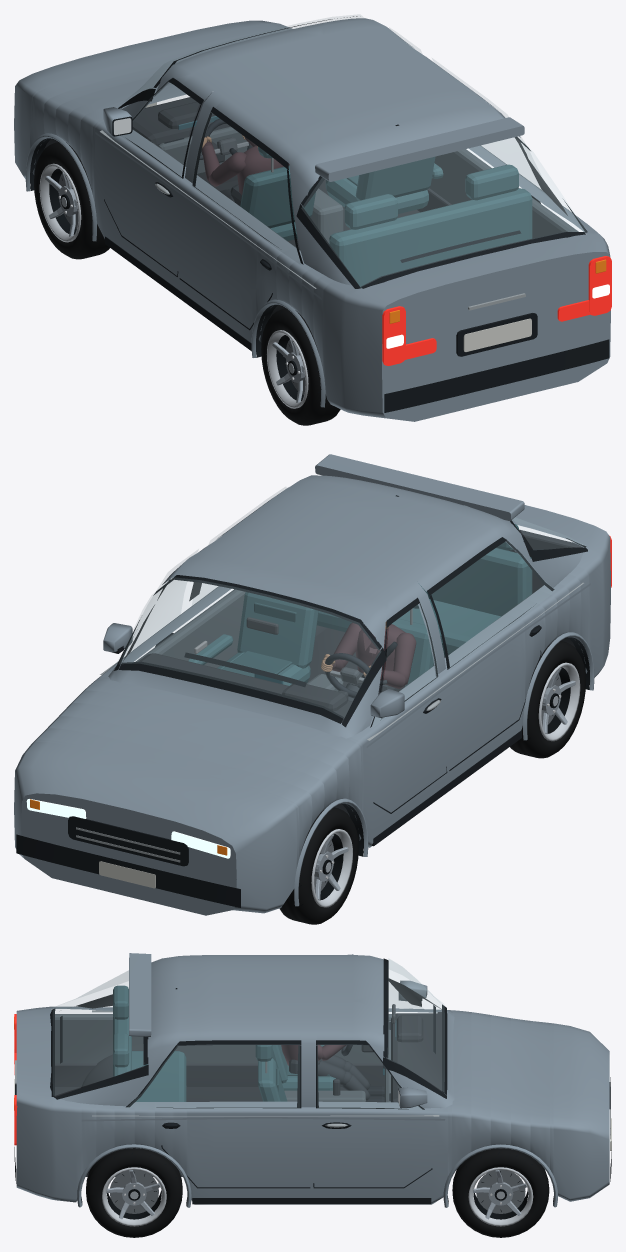
Rendered from hatch.glb.
3 views of the same model, one above another, from view 1: azimuth 30°, elevation 25°; view 2: azimuth 150°, elevation 25°; view 3: azimuth 270°, elevation 25° (orthographic). The views are drawn at different scales.
Parts seen in each view (by area): view 1: body, glass, cabin_interior, trim, wheel_rl_rubber, wheel_fl_rubber, lights_red, wheel_rl_wheel_metal, wheel_fl_wheel_metal, plate, alloy, driver_shoulder_l_cabin_interior (+3 smaller); view 2: body, glass, cabin_interior, trim, wheel_fl_rubber, wheel_rl_rubber, wheel_fl_wheel_metal, wheel_rl_wheel_metal, lights_white, alloy, steering_wheel_cabin_interior, plate (+3 smaller); view 3: body, glass, cabin_interior, trim, wheel_rr_rubber, wheel_fr_rubber, wheel_fr_wheel_metal, wheel_rr_wheel_metal, alloy, wheel_rr_wheel_recess, wheel_fr_wheel_recess.
Part boxes in pixels (left/top/right/bottom): body: left=14, top=18, right=610, bottom=421; glass: left=121, top=15, right=586, bottom=286; cabin_interior: left=44, top=93, right=578, bottom=317; trim: left=30, top=16, right=609, bottom=412; wheel_rl_rubber: left=261, top=308, right=340, bottom=425; wheel_fl_rubber: left=34, top=142, right=109, bottom=259; lights_red: left=382, top=256, right=611, bottom=365; wheel_rl_wheel_metal: left=267, top=330, right=308, bottom=408; wheel_fl_wheel_metal: left=39, top=163, right=81, bottom=242; plate: left=145, top=102, right=531, bottom=351; alloy: left=100, top=130, right=525, bottom=310; driver_shoulder_l_cabin_interior: left=208, top=152, right=246, bottom=186; body: left=14, top=454, right=610, bottom=915; glass: left=116, top=487, right=585, bottom=726; cabin_interior: left=123, top=524, right=586, bottom=816; trim: left=16, top=495, right=589, bottom=907; wheel_fl_rubber: left=279, top=807, right=358, bottom=924; wheel_rl_rubber: left=510, top=641, right=585, bottom=758; wheel_fl_wheel_metal: left=311, top=829, right=352, bottom=907; wheel_rl_wheel_metal: left=538, top=662, right=580, bottom=741; lights_white: left=26, top=799, right=230, bottom=858; alloy: left=76, top=582, right=583, bottom=862; steering_wheel_cabin_interior: left=325, top=653, right=369, bottom=698; plate: left=99, top=861, right=155, bottom=888; body: left=16, top=953, right=609, bottom=1207; glass: left=53, top=958, right=444, bottom=1109; cabin_interior: left=54, top=978, right=443, bottom=1176; trim: left=14, top=958, right=611, bottom=1205; wheel_rr_rubber: left=86, top=1148, right=182, bottom=1237; wheel_fr_rubber: left=452, top=1148, right=549, bottom=1237; wheel_fr_wheel_metal: left=468, top=1167, right=533, bottom=1226; wheel_rr_wheel_metal: left=102, top=1167, right=166, bottom=1226; alloy: left=15, top=1010, right=610, bottom=1134; wheel_rr_wheel_recess: left=86, top=1150, right=182, bottom=1233; wheel_fr_wheel_recess: left=454, top=1150, right=547, bottom=1219.
Bounding box in the file's own units: 1.86 × 1.5 × 4.08.
